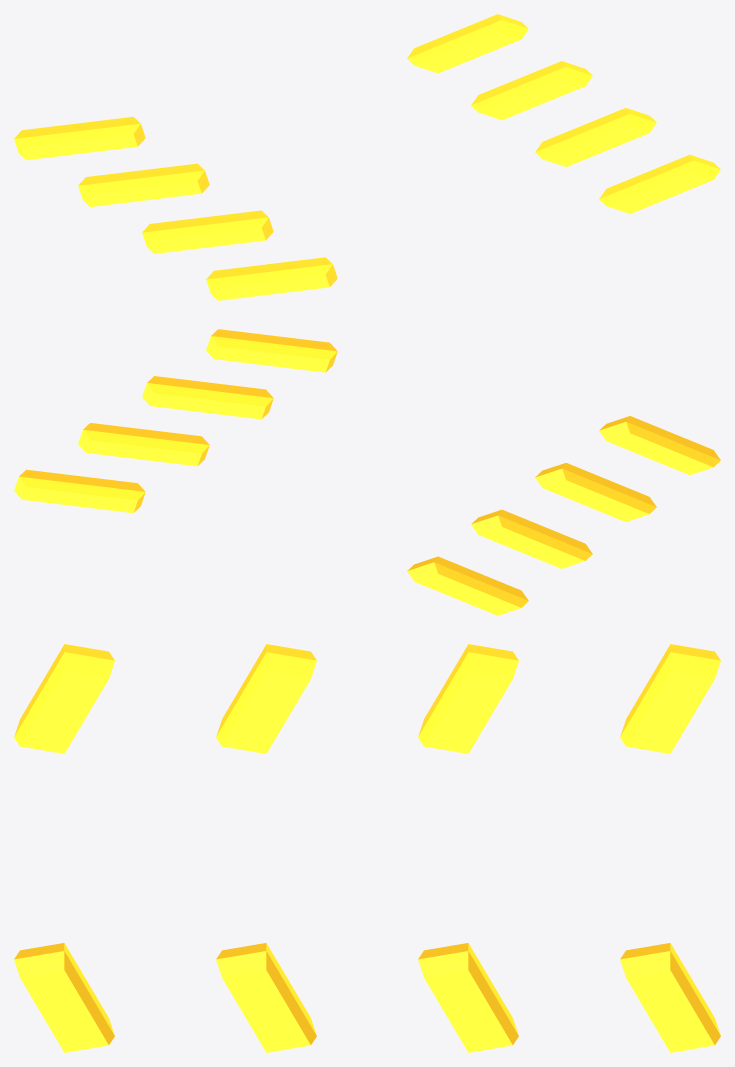
The model's file is bf_elite_magnet_field.glb.
3 renders of one model, top to bottom at view 1: azimuth 30°, elevation 25°; view 2: azimuth 150°, elevation 25°; view 3: azimuth 270°, elevation 25°, orthographic. The views are drawn at different scales.
Visible parts, largest first — view 1: ELITE // FEATHER ANTENNAE; view 2: ELITE // FEATHER ANTENNAE; view 3: ELITE // FEATHER ANTENNAE.
Boxes of the visible parts, x1,y1,x2,y2 form: ELITE // FEATHER ANTENNAE: (14, 14, 720, 300); ELITE // FEATHER ANTENNAE: (14, 329, 720, 615); ELITE // FEATHER ANTENNAE: (14, 644, 720, 1052).
Bounding box in the file's own units: 0.782 × 0.0255 × 0.595.
